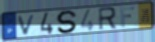4: (40, 11, 55, 36), (80, 8, 95, 32)
F: (120, 6, 136, 28)
R: (97, 6, 118, 32)
S: (56, 10, 79, 34)
V: (17, 14, 37, 36)
